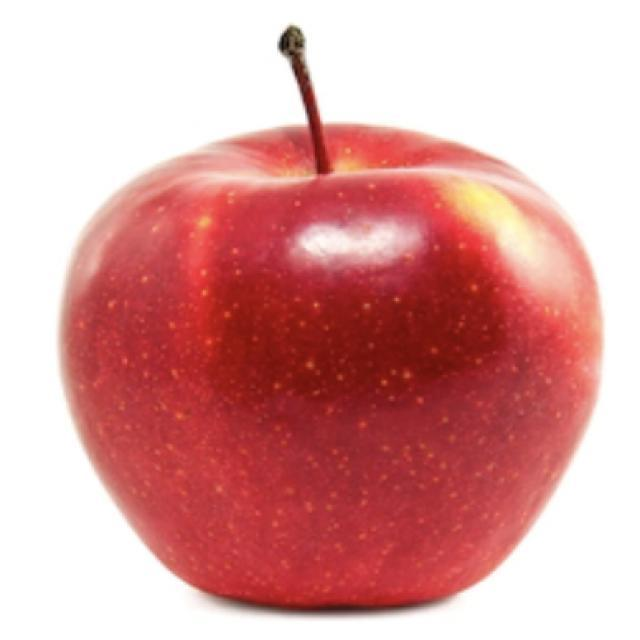Fresh Apple: (86, 117, 592, 600)
